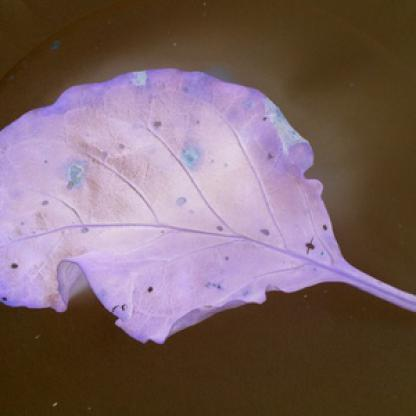Bell_pepper leaf: (1, 60, 352, 340)
